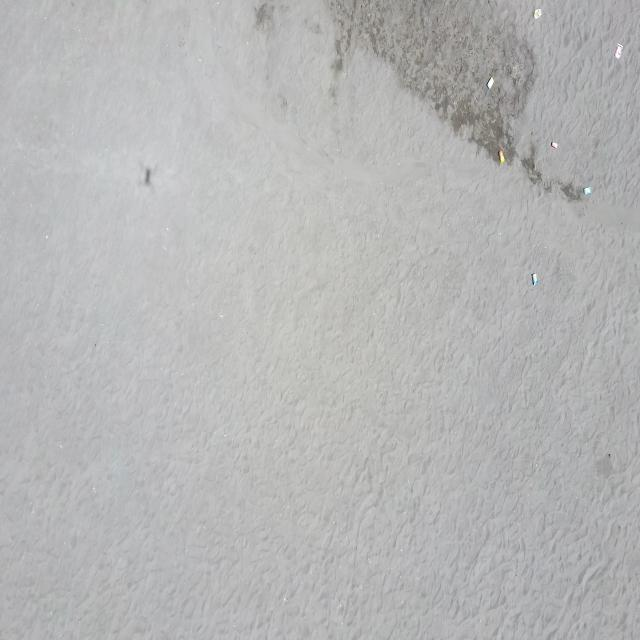Garbage: (613, 43, 623, 57), (497, 148, 504, 163), (532, 8, 540, 19), (583, 186, 591, 195), (531, 272, 537, 284), (487, 75, 492, 88), (551, 140, 557, 148)
